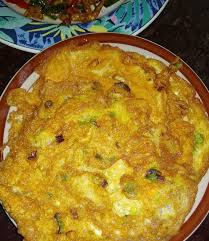Telur dadar: (1, 41, 209, 241)
